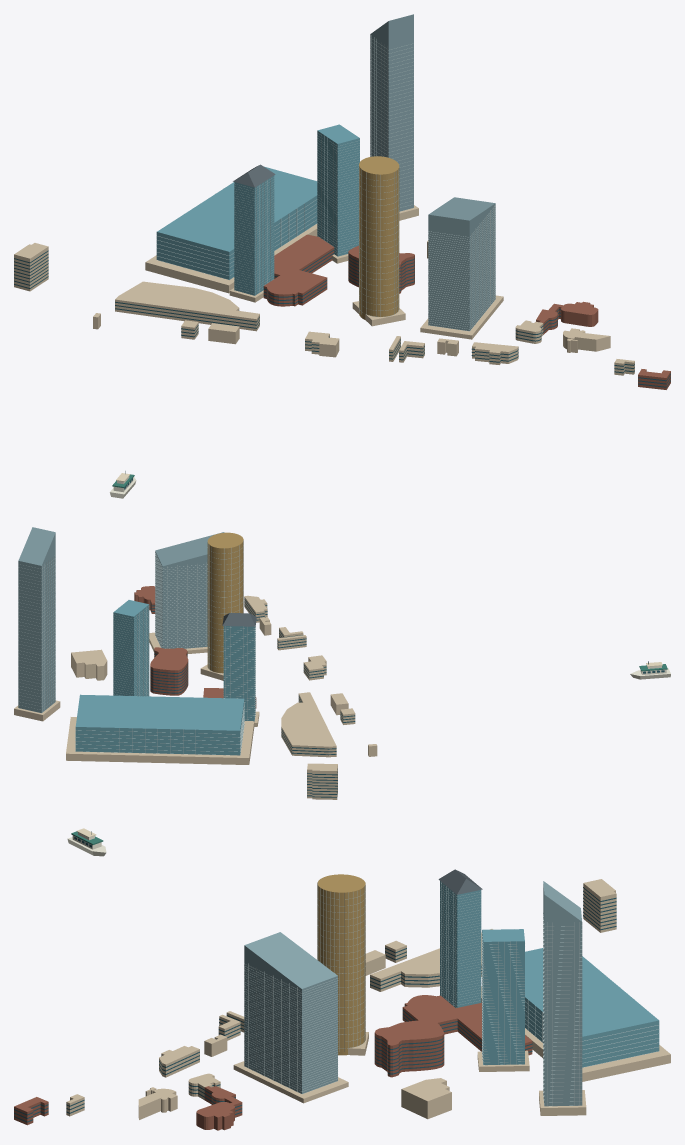
The picture shows the model from 3 angles, top to bottom: view 1: azimuth 30°, elevation 25°; view 2: azimuth 150°, elevation 25°; view 3: azimuth 270°, elevation 25°; orthographic projection. The views are drawn at different scales.
Visible parts, largest first — view 1: super-brand-mall.001, citigroup-tower.001, ifc-south.001, aurora-plaza.001, shangri-la-grand.001, shangri-la-river.001, osm-relation-6651434, osm-way-964446762, osm-way-165166871, osm-way-448242492, osm-way-964420090, osm-way-964405392 (+1 smaller); view 2: super-brand-mall.001, ifc-south.001, citigroup-tower.001, aurora-plaza.001, shangri-la-grand.001, shangri-la-river.001, osm-relation-6651434, osm-way-448242492, osm-way-165166871, osm-relation-12967274, huangpu-cruise-boat.001, osm-way-964420090 (+1 smaller); view 3: citigroup-tower.001, ifc-south.001, super-brand-mall.001, aurora-plaza.001, shangri-la-grand.001, shangri-la-river.001, osm-way-448242492, osm-way-964446762, osm-relation-6651434, osm-way-165166871, osm-relation-12967274, osm-way-964405392 (+6 smaller).
Boxes of the visible parts, x1=… form: super-brand-mall.001: x1=145, y1=166, x2=317, y2=293; citigroup-tower.001: x1=420, y1=197, x2=503, y2=339; ifc-south.001: x1=370, y1=14, x2=418, y2=220; aurora-plaza.001: x1=352, y1=156, x2=405, y2=326; shangri-la-grand.001: x1=317, y1=124, x2=359, y2=263; shangri-la-river.001: x1=229, y1=164, x2=275, y2=302; osm-relation-6651434: x1=115, y1=281, x2=259, y2=331; osm-way-964446762: x1=263, y1=234, x2=334, y2=306; osm-way-165166871: x1=14, y1=243, x2=48, y2=291; osm-way-448242492: x1=348, y1=245, x2=414, y2=293; osm-way-964420090: x1=471, y1=342, x2=518, y2=364; osm-way-964405392: x1=561, y1=301, x2=598, y2=326; super-brand-mall.001: x1=66, y1=694, x2=254, y2=764; ifc-south.001: x1=14, y1=527, x2=60, y2=721; citigroup-tower.001: x1=149, y1=532, x2=224, y2=653; aurora-plaza.001: x1=200, y1=532, x2=243, y2=680; shangri-la-grand.001: x1=113, y1=600, x2=149, y2=696; shangri-la-river.001: x1=222, y1=613, x2=259, y2=726; osm-relation-6651434: x1=281, y1=692, x2=336, y2=757; osm-way-448242492: x1=150, y1=647, x2=188, y2=695; osm-way-165166871: x1=307, y1=763, x2=337, y2=799; osm-relation-12967274: x1=71, y1=649, x2=106, y2=677; huangpu-cruise-boat.001: x1=630, y1=661, x2=670, y2=679; osm-way-964420090: x1=244, y1=595, x2=267, y2=622; citigroup-tower.001: x1=233, y1=932, x2=348, y2=1103; ifc-south.001: x1=539, y1=881, x2=586, y2=1115; super-brand-mall.001: x1=481, y1=948, x2=670, y2=1081; aurora-plaza.001: x1=317, y1=874, x2=368, y2=1055; shangri-la-grand.001: x1=477, y1=929, x2=529, y2=1071; shangri-la-river.001: x1=438, y1=869, x2=482, y2=1007; osm-way-448242492: x1=374, y1=1020, x2=444, y2=1077; osm-way-964446762: x1=402, y1=995, x2=532, y2=1055; osm-relation-6651434: x1=370, y1=929, x2=492, y2=991; osm-way-165166871: x1=583, y1=879, x2=616, y2=932; osm-relation-12967274: x1=401, y1=1080, x2=451, y2=1119; osm-way-964405392: x1=196, y1=1101, x2=234, y2=1130.
Size of the model in its own units: 712 by 250 by 677.
